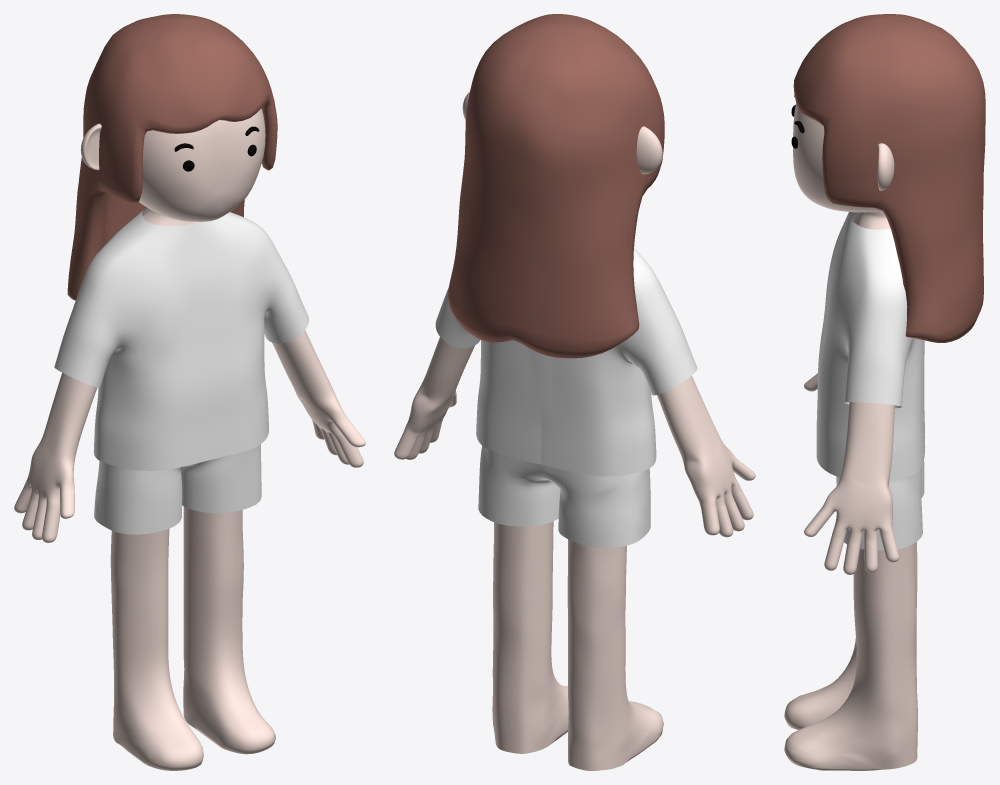
Rendered from GIRL.fbx.
3 views of the same model, side by side, from view 1: azimuth 30°, elevation 25°; view 2: azimuth 150°, elevation 25°; view 3: azimuth 270°, elevation 25° (orthographic). The views are drawn at different scales.
Parts seen in each view (by area): view 1: forelock; view 2: forelock; view 3: forelock.
Part boxes in pixels (bbox=[...]): forelock: bbox=[14, 14, 365, 770]; forelock: bbox=[394, 14, 755, 770]; forelock: bbox=[784, 14, 985, 770].
Size of the model in its own units: 3873 by 8110 by 2062.
Materials: 1 (1 with a texture image).
